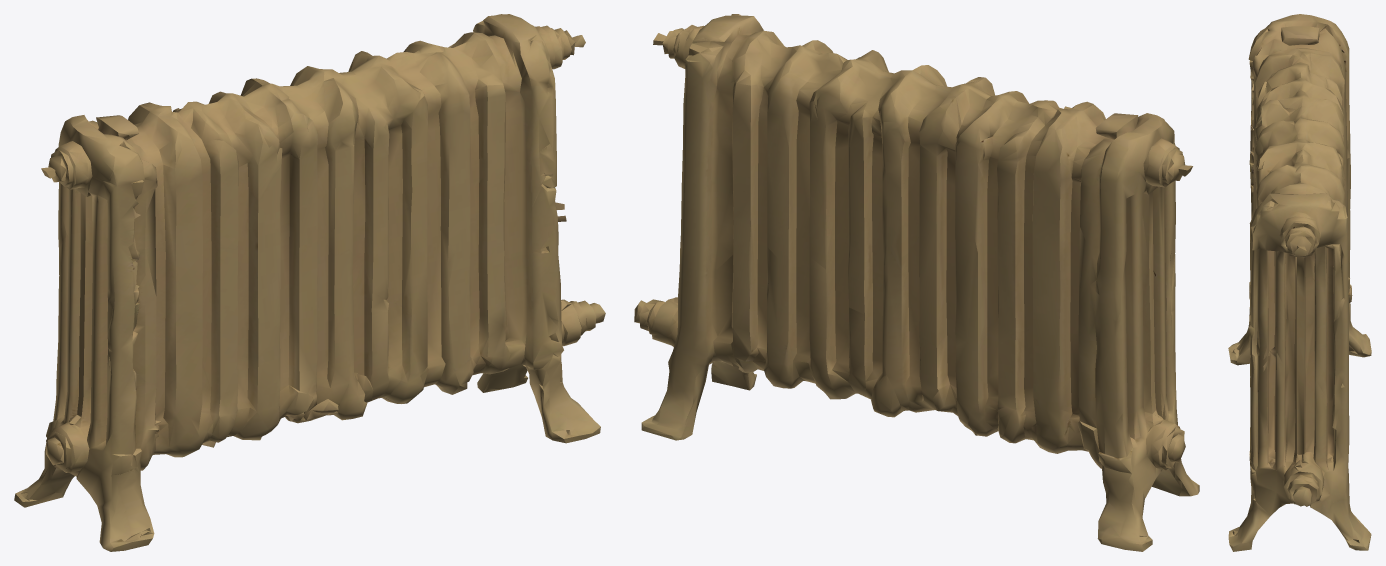
The model's file is radiator_v2.glb.
The picture shows the model from 3 angles, left to right: view 1: azimuth 30°, elevation 25°; view 2: azimuth 150°, elevation 25°; view 3: azimuth 270°, elevation 25°; orthographic projection. The views are drawn at different scales.
Parts seen in each view (by area): view 1: model; view 2: model; view 3: model.
Part boxes in pixels (x1=…): model: x1=14, y1=14, x2=605, y2=551; model: x1=634, y1=14, x2=1199, y2=551; model: x1=1228, y1=14, x2=1371, y2=551.
Bounding box in the file's own units: 0.85 × 0.57 × 0.22.
Materials: 1 (1 with a texture image).
